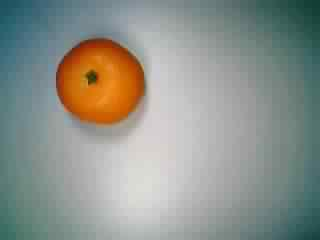orange: (52, 33, 150, 127)
